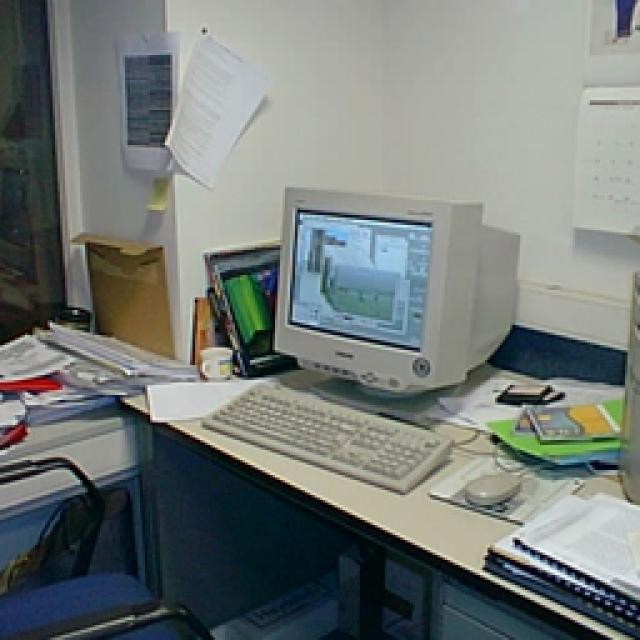books crop: (190, 238, 285, 372)
calendar: (570, 0, 635, 230)
cd: (525, 402, 622, 440)
chair seat: (0, 458, 212, 635)
computer crop: (610, 270, 638, 508)
cup and saucer: (55, 300, 88, 328)
desk calendar: (118, 362, 635, 632)
disks: (492, 378, 562, 398)
envelope: (68, 225, 170, 358)
keyboard crop: (198, 380, 448, 490)
monitor crop: (270, 185, 515, 410)
mouse: (425, 450, 582, 520)
mouse pad: (460, 470, 518, 502)
notebooks: (480, 490, 635, 635), (0, 332, 105, 450)
paper cup with straws: (162, 30, 268, 185), (112, 30, 178, 170), (145, 380, 252, 420)
